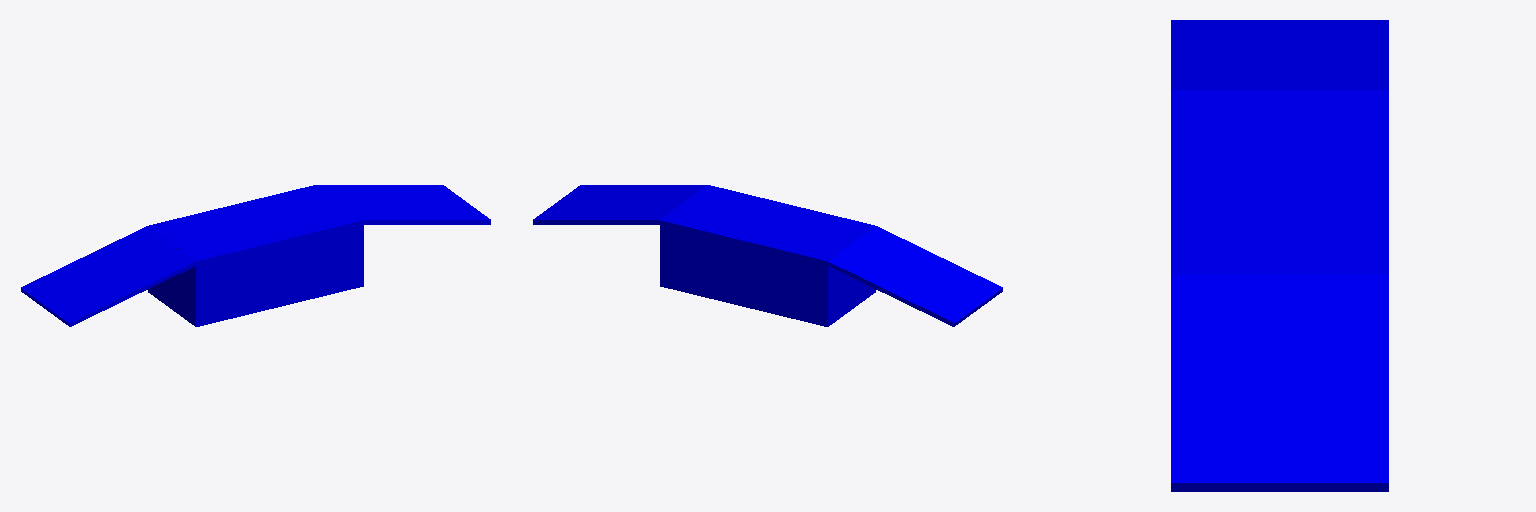
The robot description file, URDF, robot "ramp":
<?xml version="1.0" ?>
<robot name="ramp">
    
	<!-- Bloque azul en (10,0,0) -->
	<link name="block">
		<visual>
			<origin xyz="10 0 0" rpy="0 0 0"/>
			<geometry>
				<box size="4 2 1.5"/> 
			</geometry>
			<material name="blue">
				<color rgba="0 0 1 1"/>
			</material>
		</visual>
	</link>

	<!-- Rampa de subida inclinada -->
	<link name="rampa_subida">
		<visual>
			<origin xyz="6.5 0 0.35" rpy="0 -0.228 0"/>  <!-- Se rota en Y (pitch) -->
			<geometry>
				<box size="3.1 2 0.1"/> 
			</geometry>
			<material name="blue">
				<color rgba="0 0 1 1"/>
			</material>
		</visual>
	</link>

	<!-- Rampa de subida inclinada -->
	<link name="rampa_bajada">
		<visual>
			<origin xyz="13.5 0 0.35" rpy="0 0.228 0"/>  <!-- Se rota en Y (pitch) -->
			<geometry>
				<box size="3.1 2 0.1"/> 
			</geometry>
			<material name="blue">
				<color rgba="0 0 1 1"/>
			</material>
		</visual>
	</link>

	<!-- Unión fija entre la rampa y el bloque -->
	<joint name="rampa_subida_joint" type="fixed">
		<parent link="block"/>
		<child link="rampa_subida"/>
	</joint>

	<!-- Unión fija entre la rampa y el bloque -->
	<joint name="rampa_bajada_joint" type="fixed">
		<parent link="block"/>
		<child link="rampa_bajada"/>
	</joint>

</robot>

--- What the picture shows (computed from the rendered views, not written in the file) ---
3 views of the same robot in one strip: view 1: azimuth 30°, elevation 25°; view 2: azimuth 150°, elevation 25°; view 3: azimuth 270°, elevation 25° (orthographic).
Model ramp with 3 links and 2 joints (2 fixed), rooted at block, posed all joints at 0.
Links seen in each view (by area): view 1: block, rampa_subida, rampa_bajada; view 2: block, rampa_subida, rampa_bajada; view 3: rampa_bajada, block, rampa_subida.
Boxes of the visible links, <box> form: block: <box>148,185,363,326</box>; rampa_subida: <box>21,226,196,326</box>; rampa_bajada: <box>317,185,490,224</box>; block: <box>660,185,875,326</box>; rampa_subida: <box>827,226,1002,326</box>; rampa_bajada: <box>533,185,706,224</box>; rampa_bajada: <box>1171,275,1388,491</box>; block: <box>1171,90,1388,274</box>; rampa_subida: <box>1171,20,1388,89</box>.
Bounding box of the posed robot: 10.04 × 2 × 1.5 m (x, y, z).
Geometry: primitives only (box / cylinder / sphere), no mesh files.